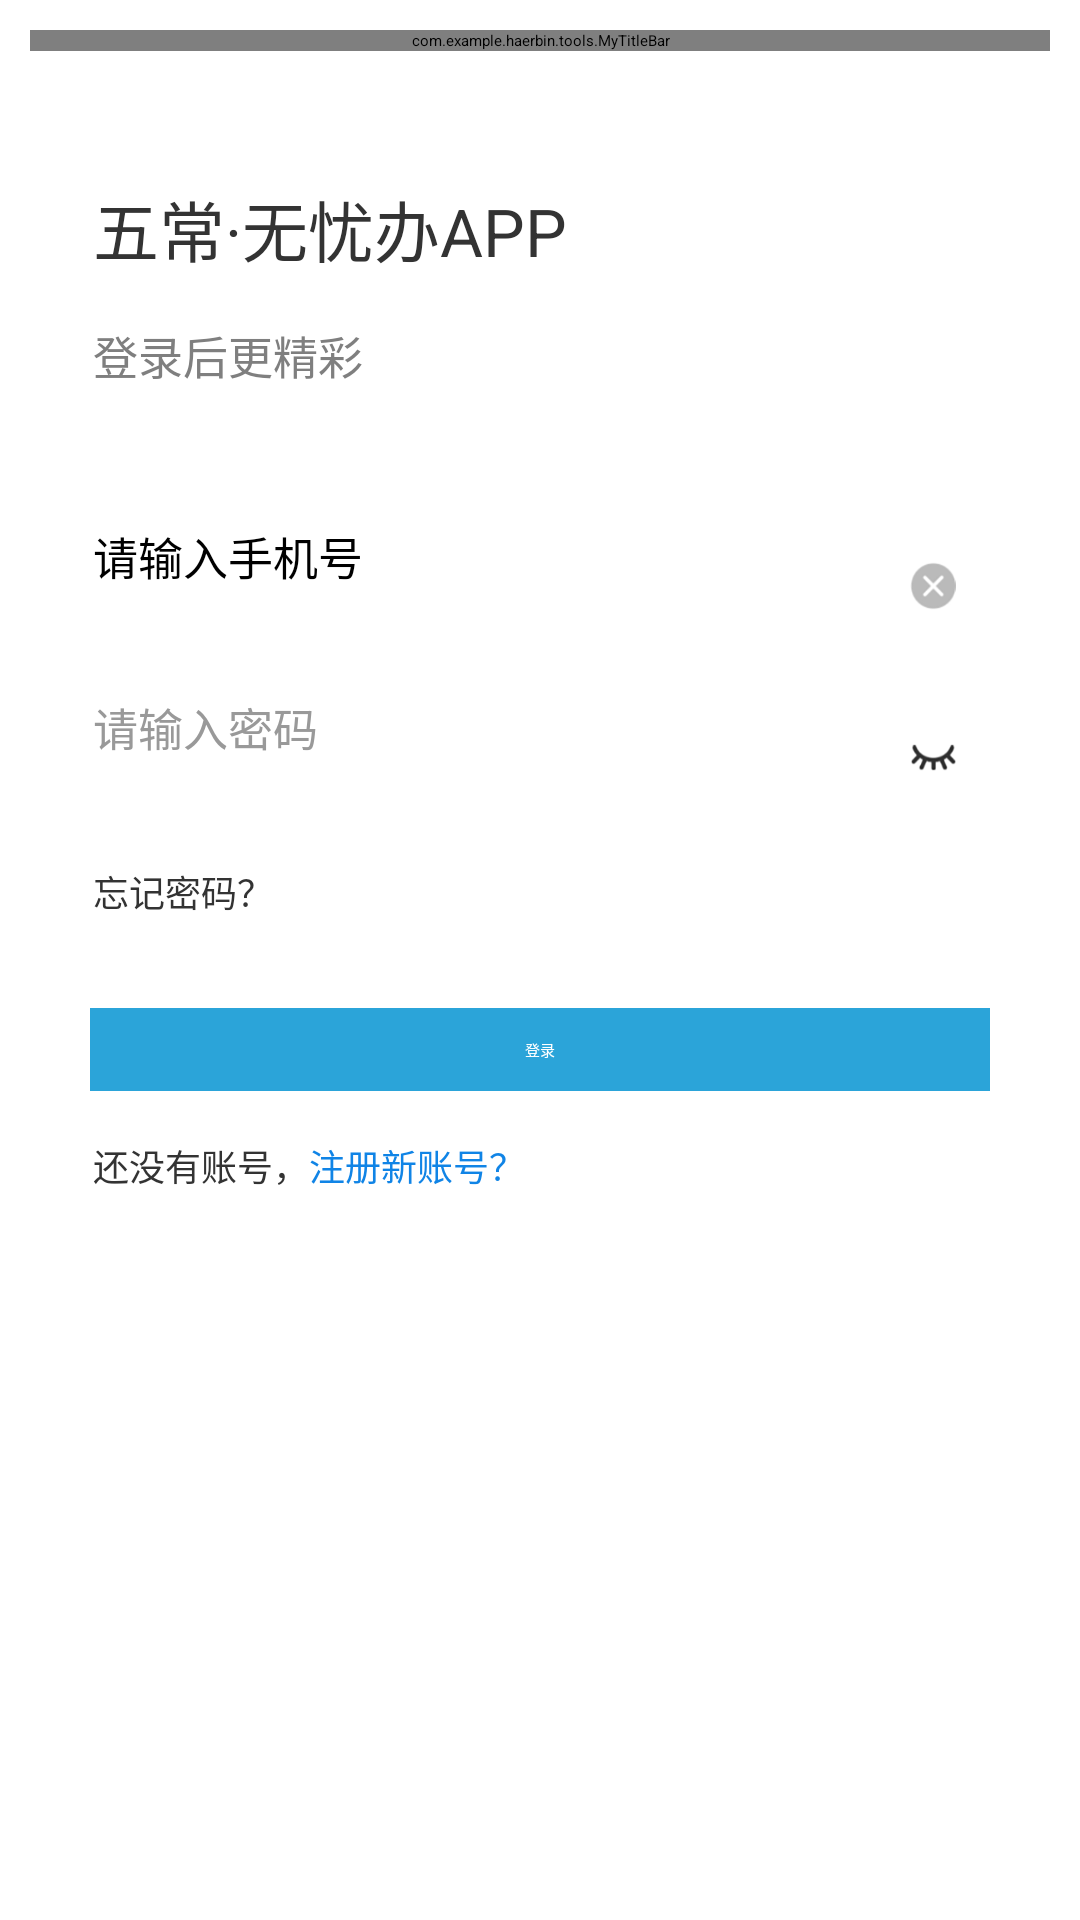

Where icons sit on this 1080px x 1920px app screen, as rect(x1, y1, x2, y2):
close: rect(911, 563, 956, 609)
eye off: rect(911, 744, 956, 771)
